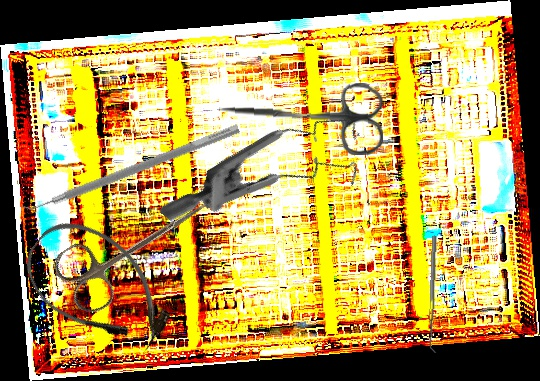Cannula: (9, 203, 188, 371)
Iris Scissors: (48, 172, 223, 320), (217, 75, 386, 157)
Spatula Surgical: (19, 114, 241, 220), (427, 235, 442, 354)
Speculum: (158, 61, 384, 296)
